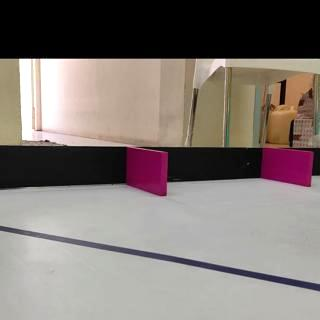xparking: (264, 149, 318, 187), (129, 150, 167, 197)
